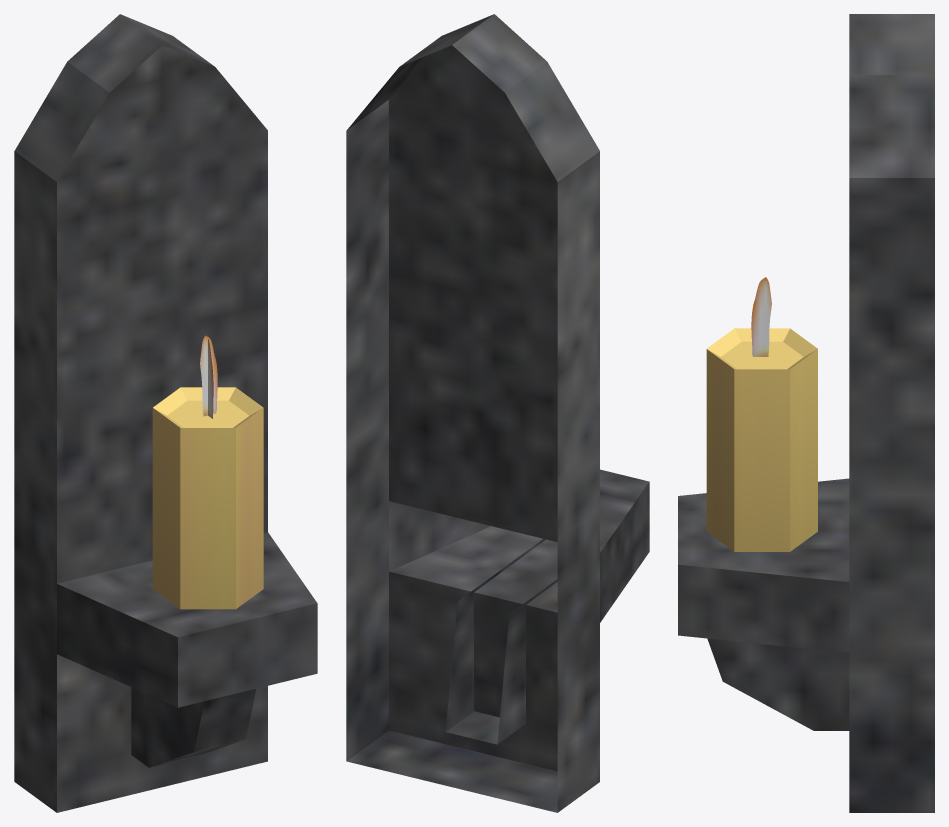
The model's file is WallCandle.fbx.
3 renders of one model, left to right at view 1: azimuth 30°, elevation 25°; view 2: azimuth 150°, elevation 25°; view 3: azimuth 270°, elevation 25°, orthographic.
Parts seen in each view (by area): view 1: Cube.002; view 2: Cube.002; view 3: Cube.002.
Part boxes in pixels (x1=…): Cube.002: x1=14, y1=14, x2=317, y2=812; Cube.002: x1=346, y1=14, x2=649, y2=812; Cube.002: x1=678, y1=14, x2=934, y2=812.
Size of the model in its own units: 25.02 by 84.02 by 26.19.
Materials: 1 (1 with a texture image).
